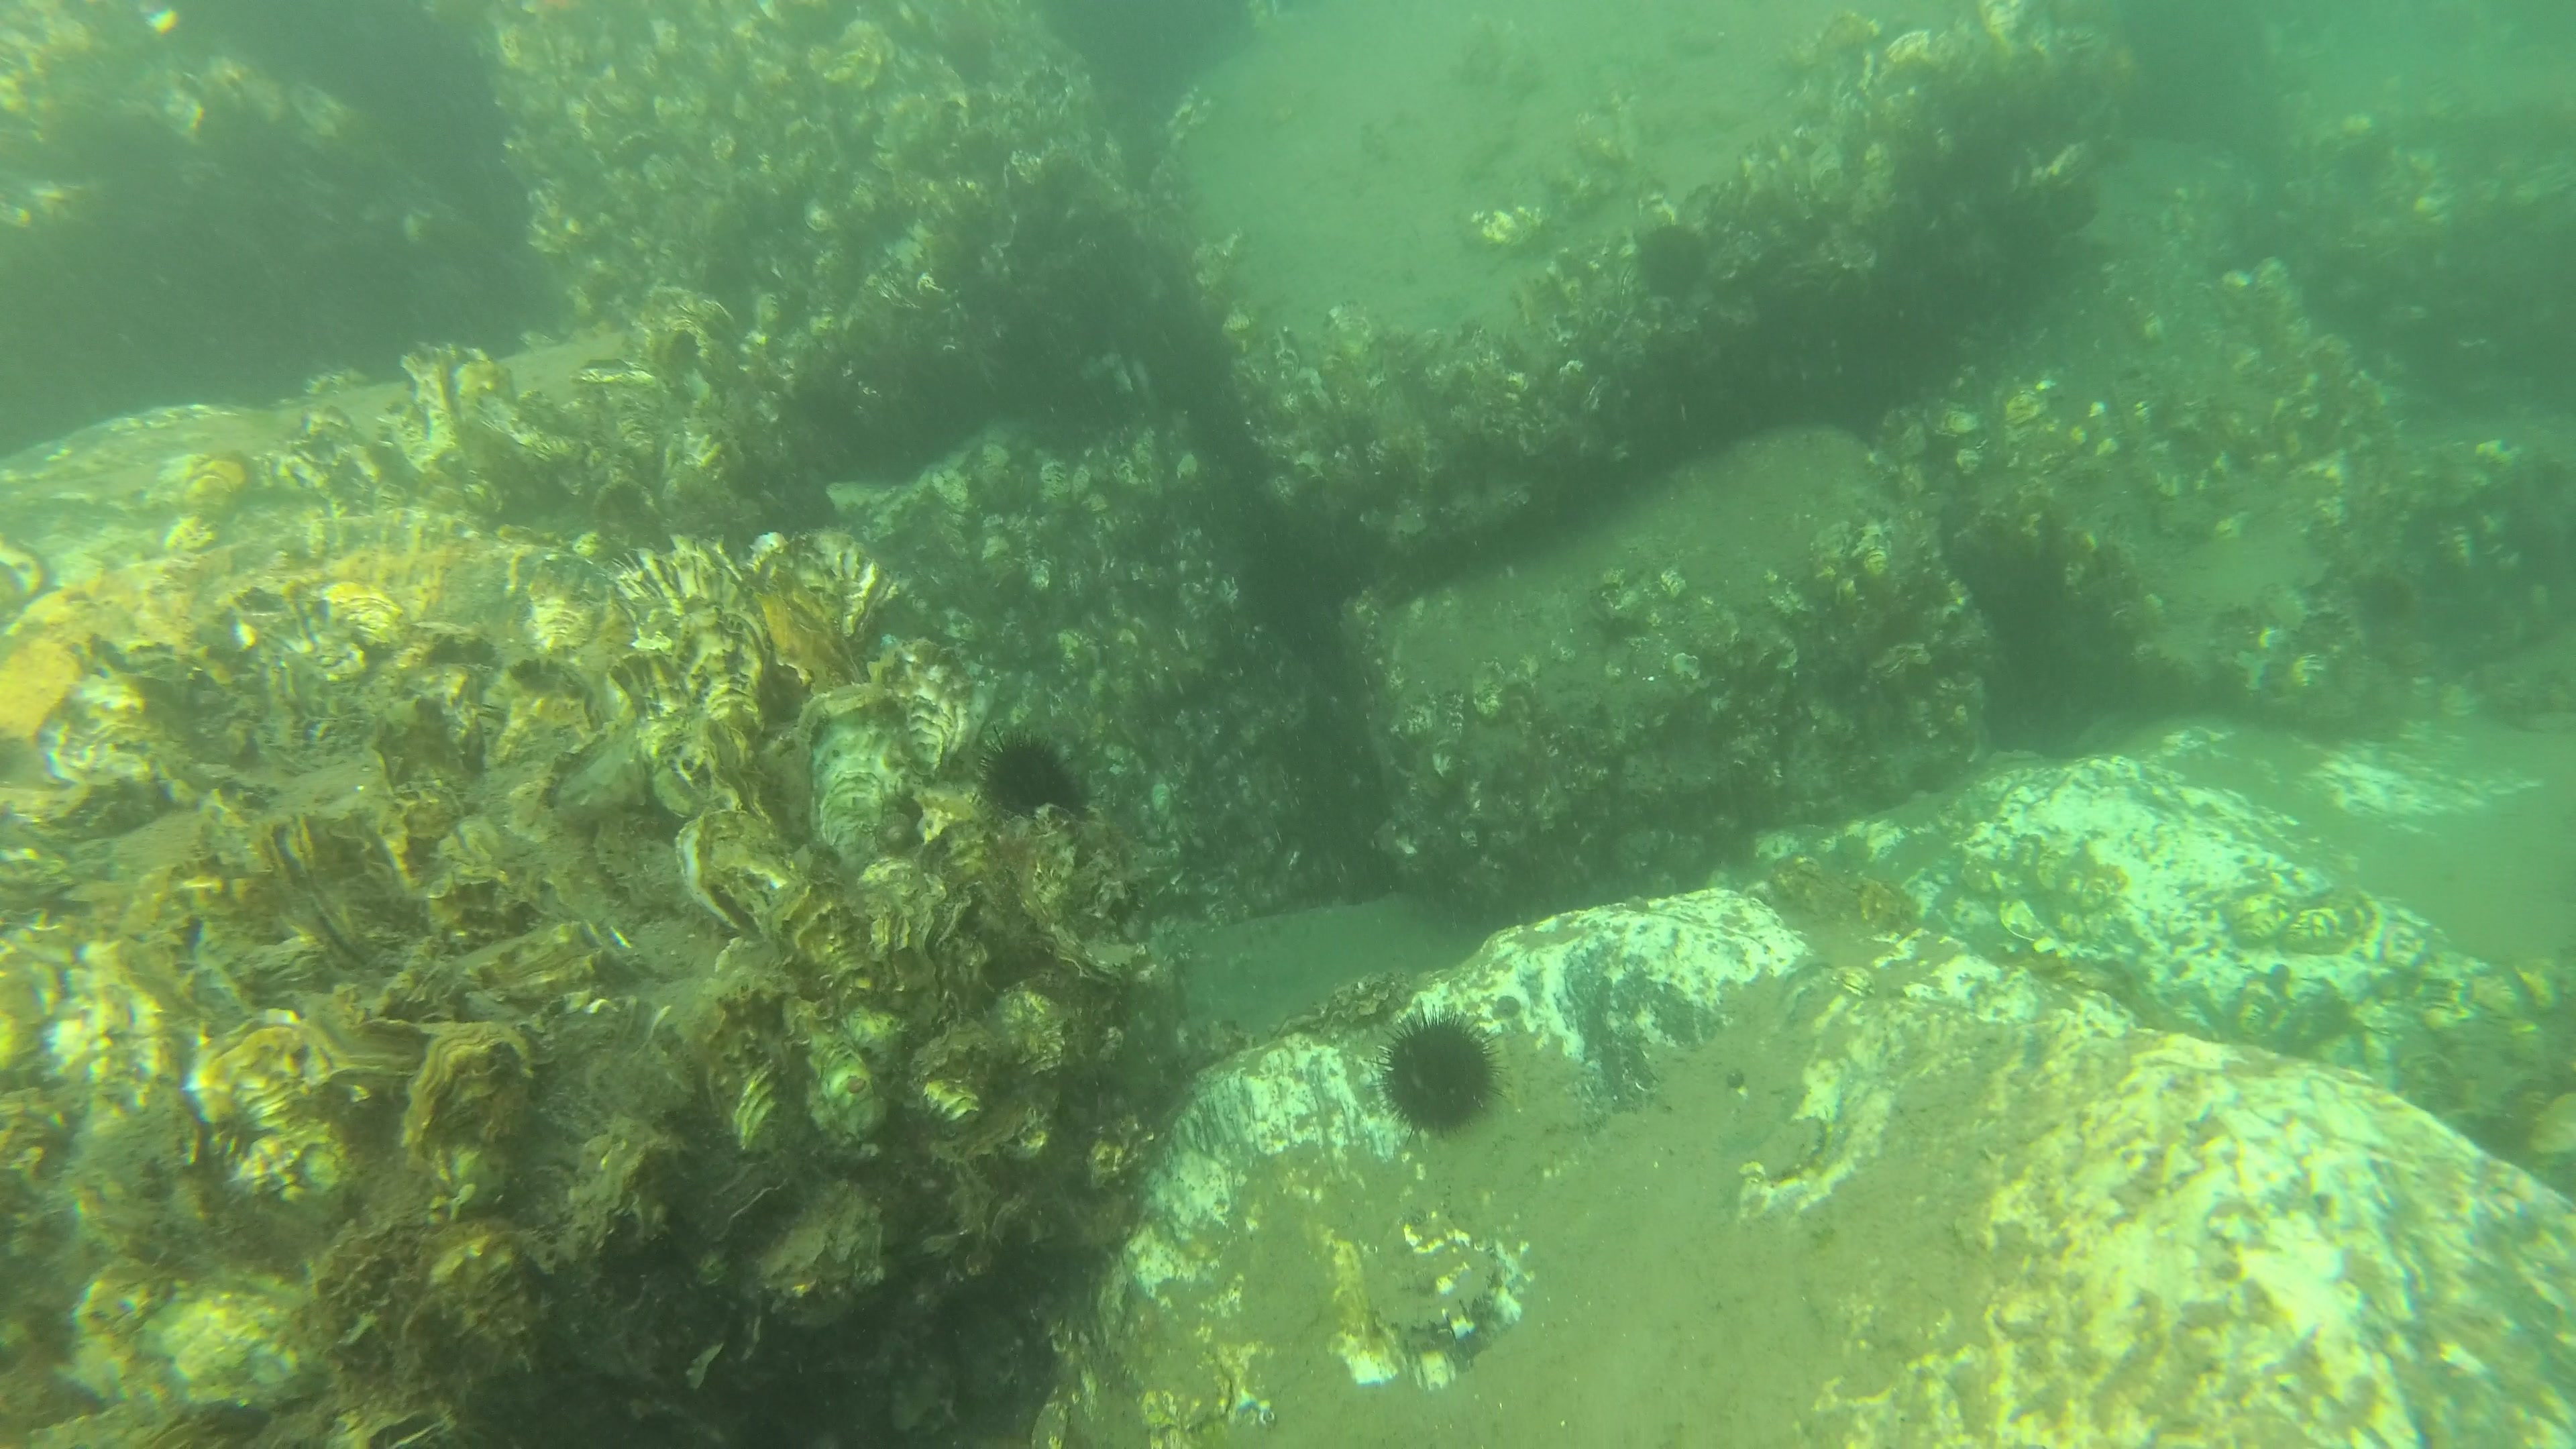echinus: (1375, 1016, 1504, 1141), (973, 732, 1086, 816), (1635, 228, 1711, 304), (2357, 575, 2411, 630)
